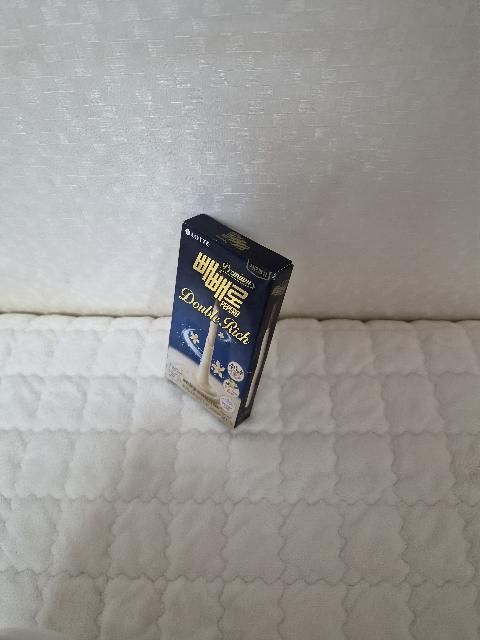pepero: (165, 213, 294, 430)
